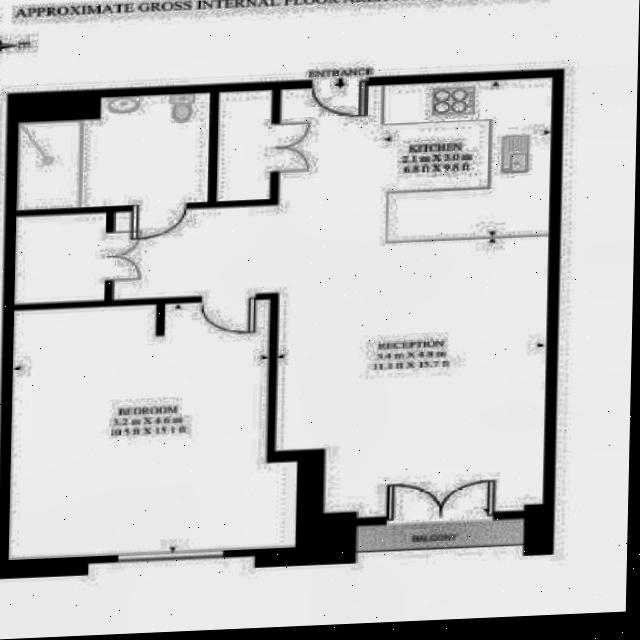room: (105, 78, 569, 528), (0, 299, 301, 559), (13, 93, 214, 210), (12, 214, 109, 304), (216, 89, 271, 202)
